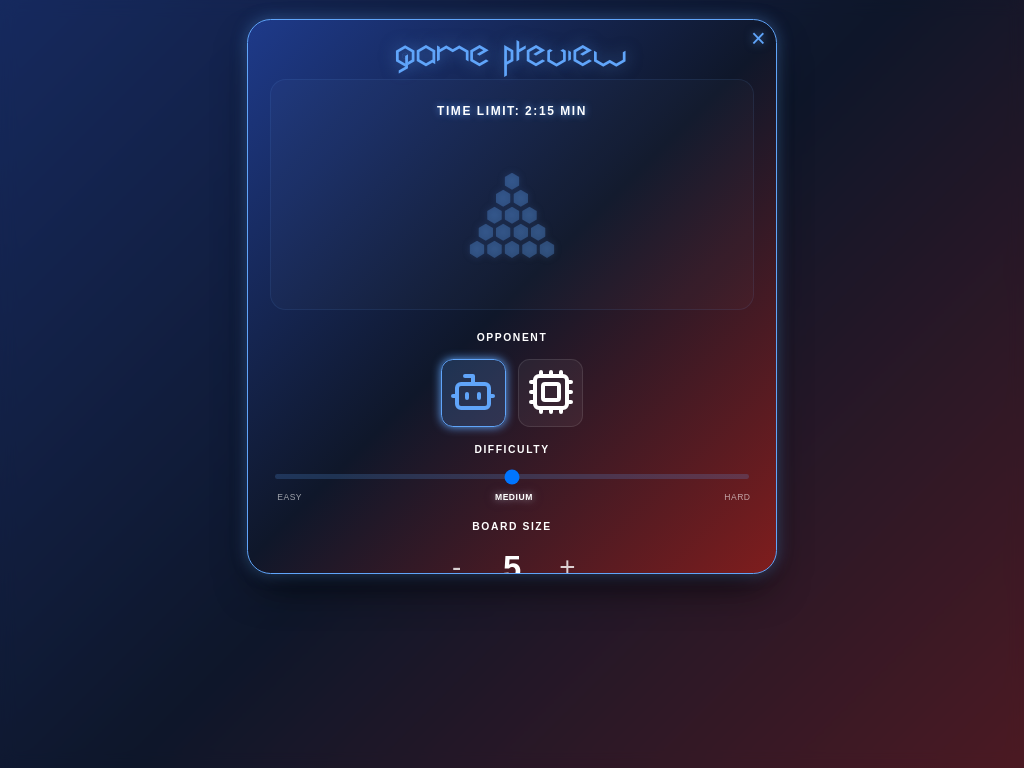
GamePreviewModal › TEST 5: board size stepper increases and decreases values
Note: Initial size is 5
Click the button "+". click: x=567, y=567
box: [548,548,586,586]
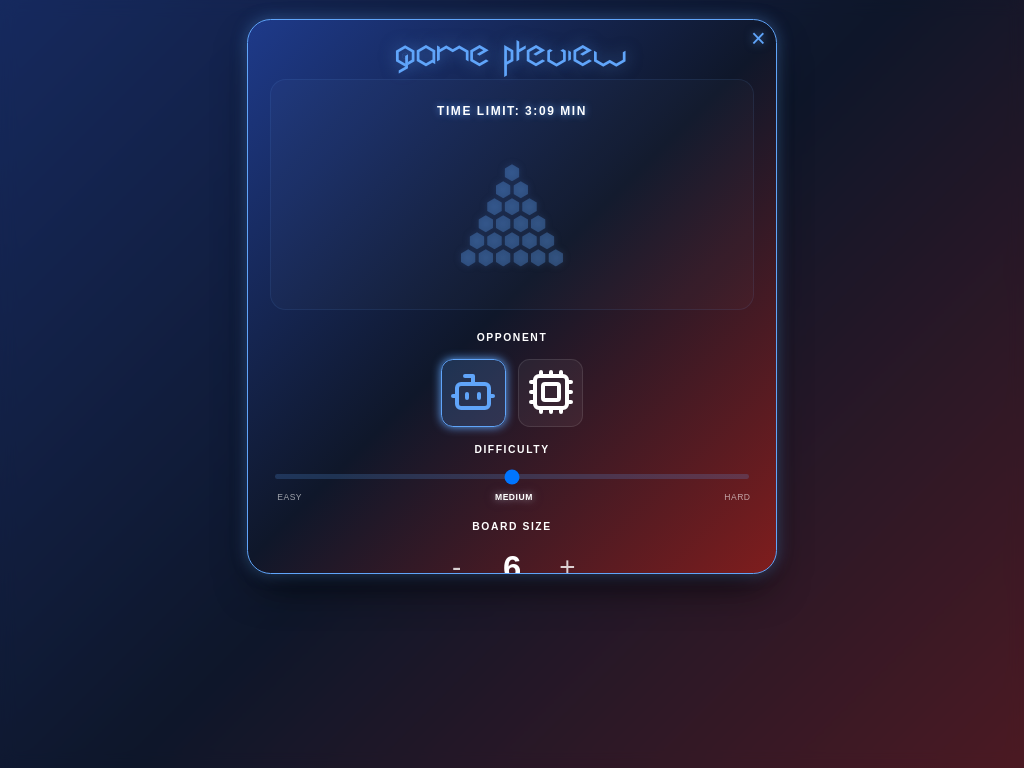
expect the text with class "stepper-value" reads "6": met, box [503,549,521,574]
Click the button "-". click: x=456, y=567
box: [438,548,475,586]
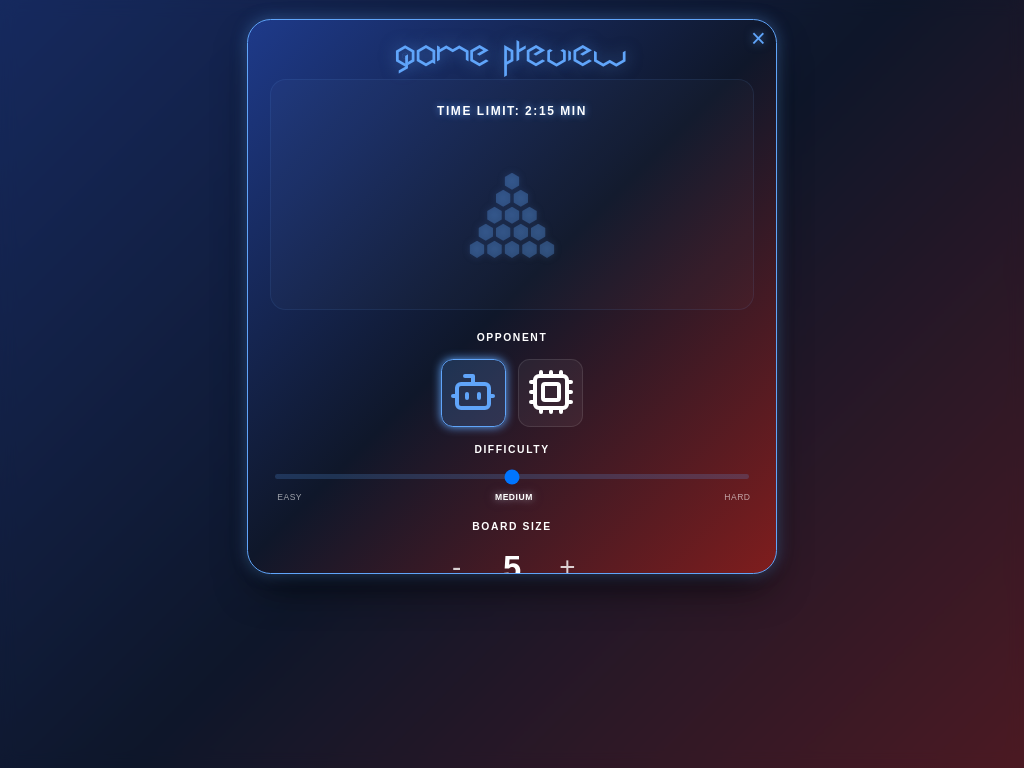
expect the text with class "stepper-value" reads "5": met, box [503,549,521,574]
